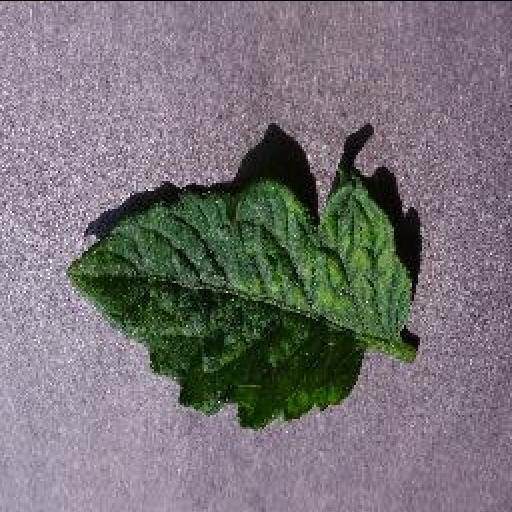disease_tomato: (66, 158, 416, 434)
